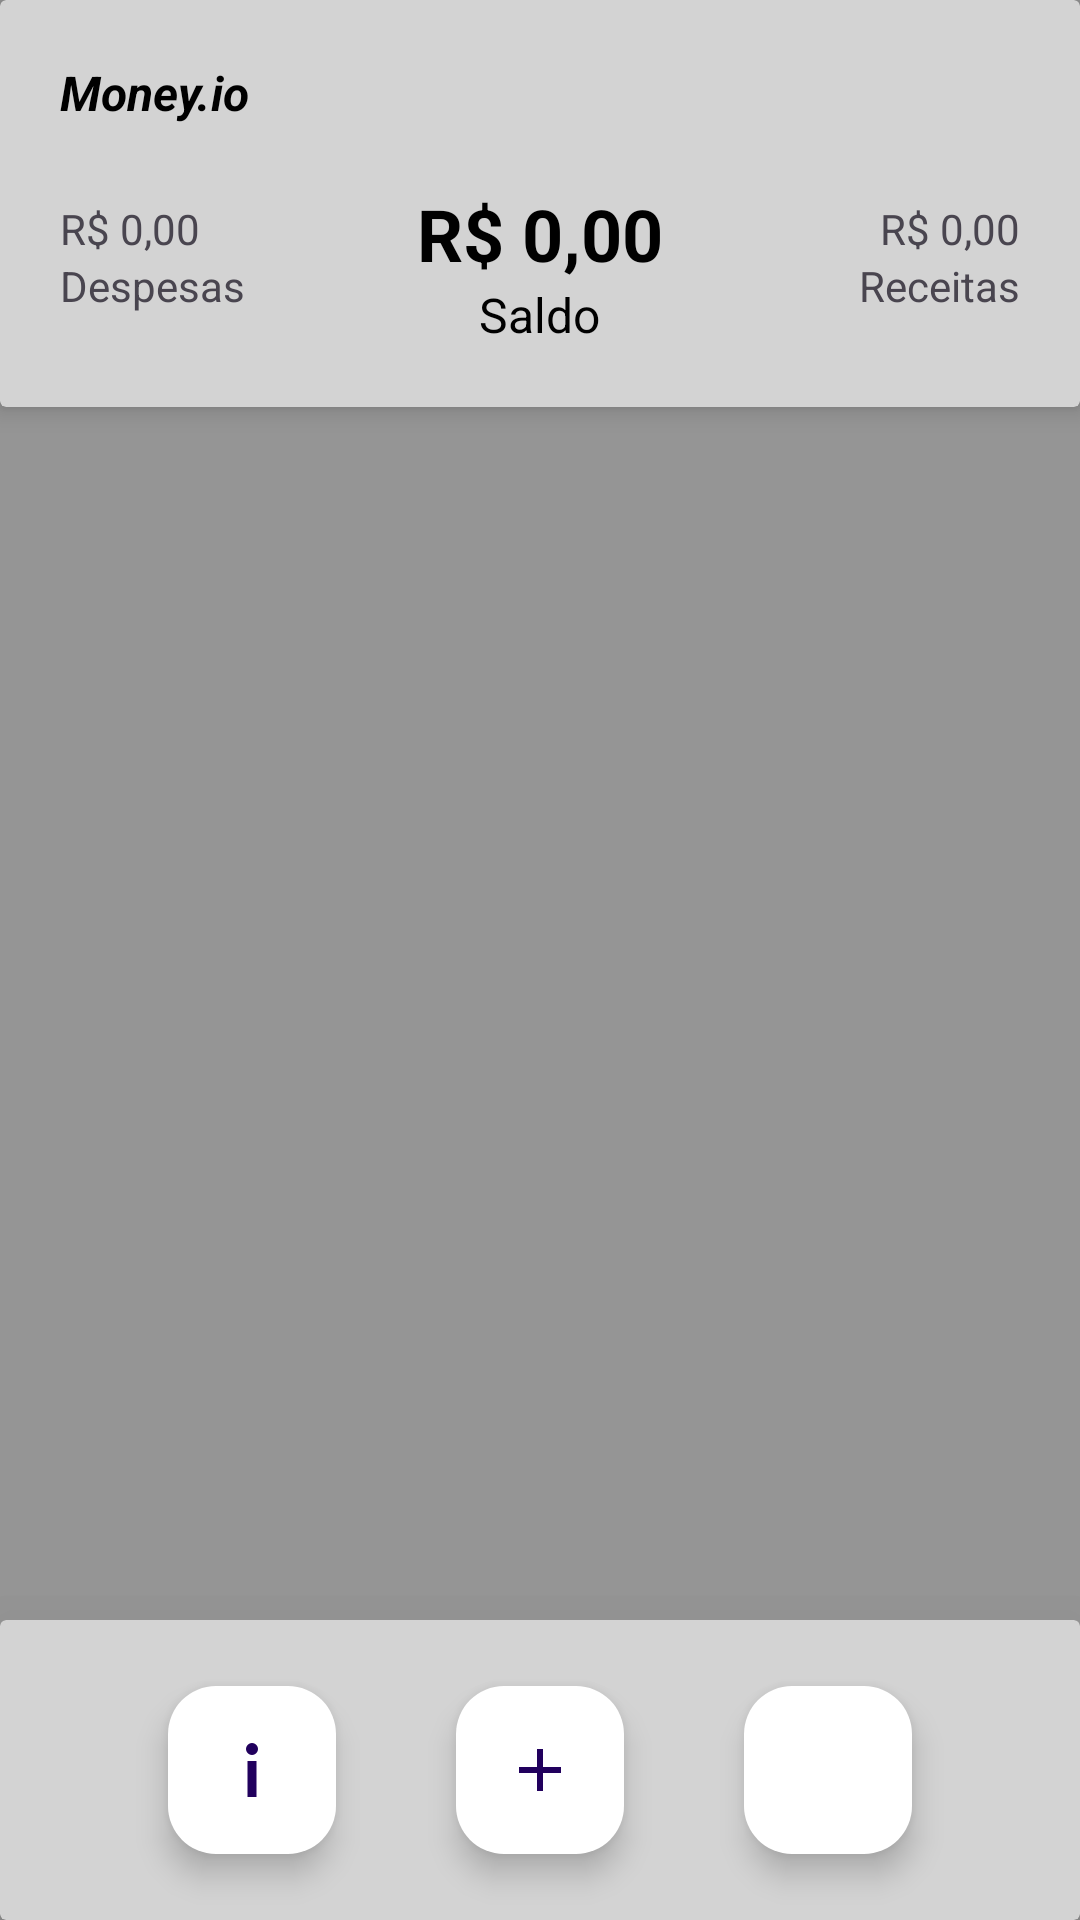

Icons on this 1080 × 1920 Android screen, each with the point to tap as (x,y):
add: (540,1770)
info: (252,1770)
